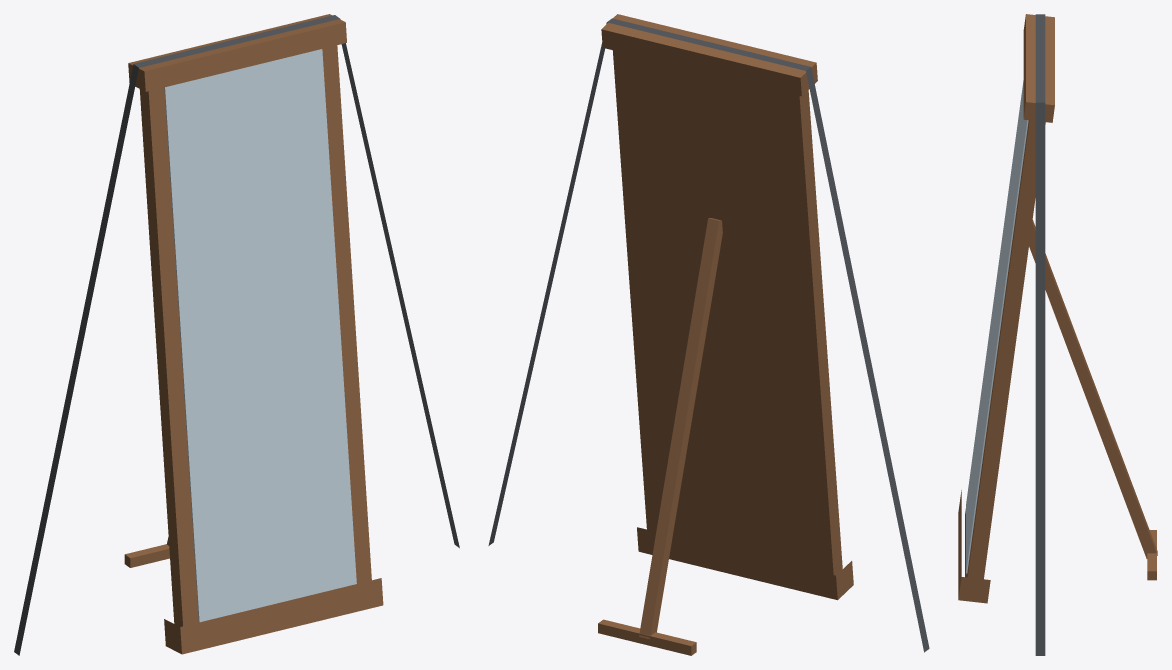
The model's file is full-length-mirror.glb.
3 views of the same model, side by side, from view 1: azimuth 30°, elevation 25°; view 2: azimuth 150°, elevation 25°; view 3: azimuth 270°, elevation 25° (orthographic). The views are drawn at different scales.
Visible parts, largest first — view 1: FullLengthMirror; view 2: FullLengthMirror; view 3: FullLengthMirror.
Boxes of the visible parts, x1,y1,x2,y2 form: FullLengthMirror: (14,14,459,655); FullLengthMirror: (488,14,929,655); FullLengthMirror: (958,14,1157,655).
Bounding box in the file's own units: 1.4 × 1.7 × 0.6112.
